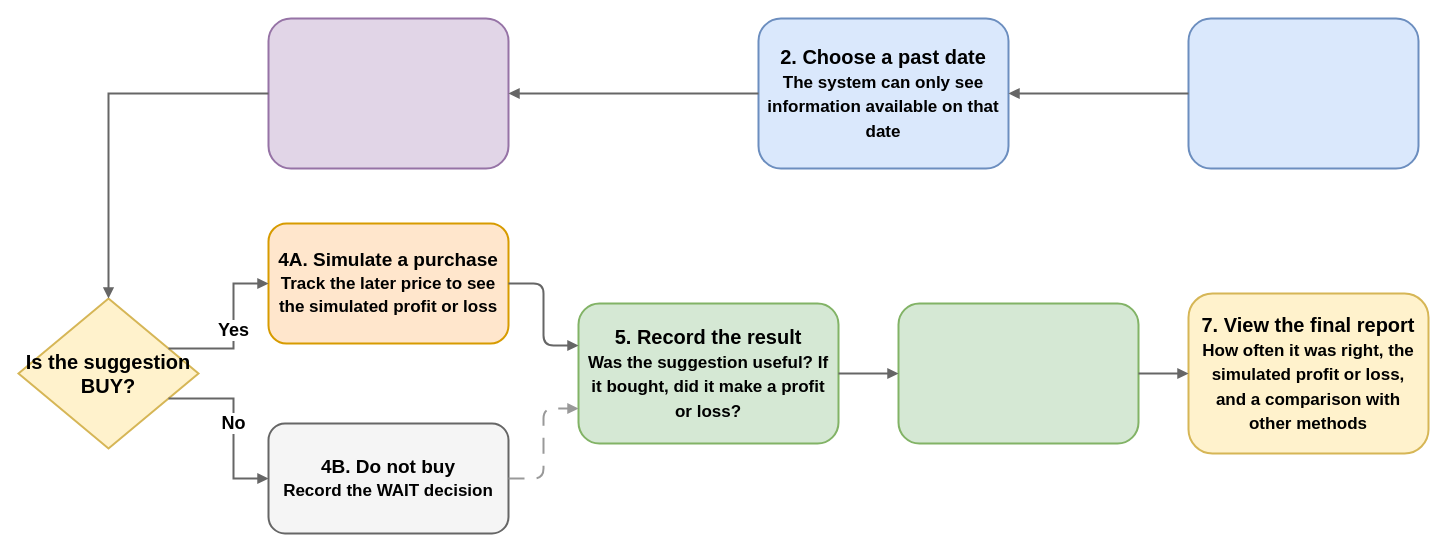
Some shapes in this 1446 by 551 pixel diagram are drawn without their labels. The centre of each missing label's shape, as x and y in pixels:
1. Collect past information Stock prices, company information, and news: the point at 1303,93
3. Stockrium analyzes the data and gives a suggestion BUY or WAIT: the point at 388,93
6. Repeat for many other dates More trials make the result more reliable: the point at 1018,373
